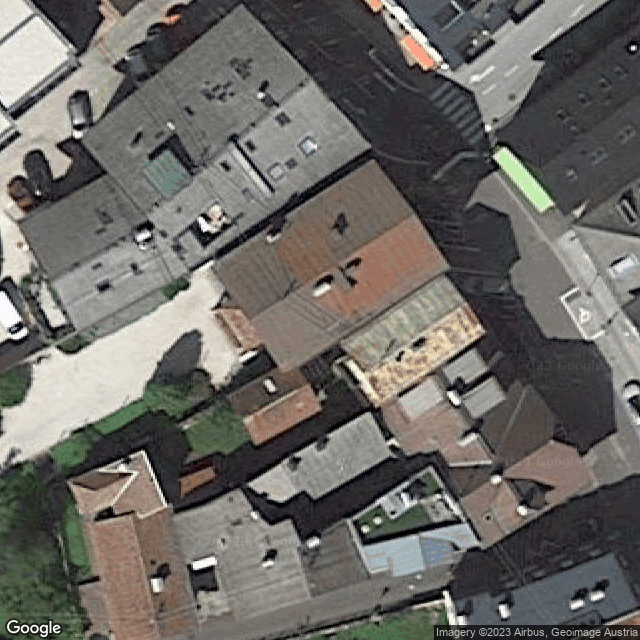dormer: (69, 471, 138, 516)
hip: (551, 416, 574, 450), (522, 163, 545, 191)
obstacles: (606, 253, 637, 277), (617, 200, 639, 227), (190, 555, 221, 572), (298, 138, 321, 158), (494, 602, 513, 621), (266, 162, 286, 180), (261, 377, 279, 396), (445, 390, 463, 409), (132, 228, 152, 245), (263, 231, 284, 247), (312, 282, 331, 299), (150, 575, 164, 595), (514, 503, 531, 518), (566, 597, 586, 609), (260, 556, 276, 569), (587, 589, 605, 600), (489, 474, 503, 487), (306, 537, 321, 548), (165, 120, 176, 134), (254, 91, 266, 103), (627, 44, 639, 53), (455, 615, 467, 623), (116, 463, 128, 471)
ridge: (146, 80, 309, 221), (249, 217, 414, 323), (542, 93, 638, 170), (364, 304, 464, 377), (51, 228, 154, 283), (492, 552, 610, 599), (458, 441, 551, 498), (132, 516, 161, 639), (243, 386, 308, 423), (142, 450, 167, 505), (1, 13, 35, 43)
roof: (82, 5, 372, 271), (209, 161, 451, 374), (377, 330, 596, 548), (494, 20, 640, 217), (442, 485, 640, 625), (18, 174, 189, 334), (175, 490, 321, 640), (338, 273, 485, 404), (87, 504, 208, 640), (359, 524, 504, 613), (570, 177, 640, 340), (68, 435, 184, 526), (393, 1, 539, 70), (298, 519, 387, 631), (1, 1, 81, 111), (228, 367, 322, 446), (1, 107, 18, 145)
valley: (492, 388, 525, 463), (571, 227, 638, 240), (433, 463, 492, 465)
